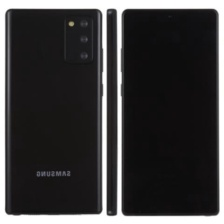phone: (119, 5, 220, 218), (2, 7, 102, 217), (105, 5, 118, 217)
